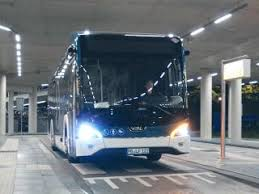bus: (45, 30, 193, 166)
